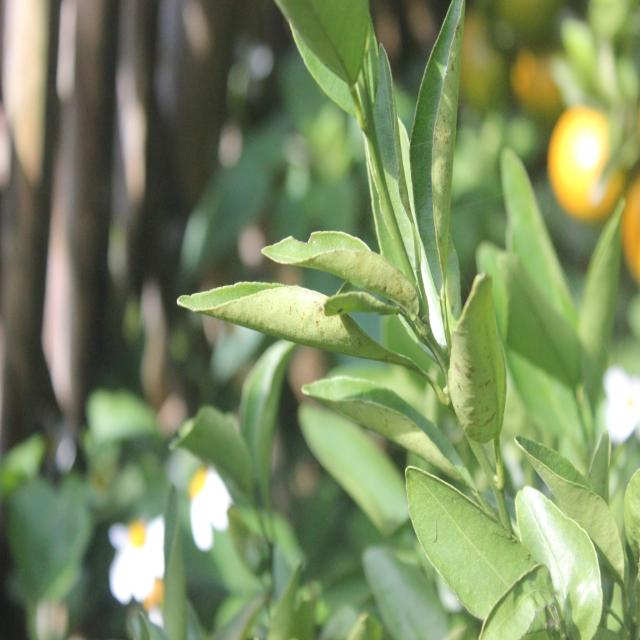melanose: (168, 250, 406, 395), (408, 2, 473, 284)
